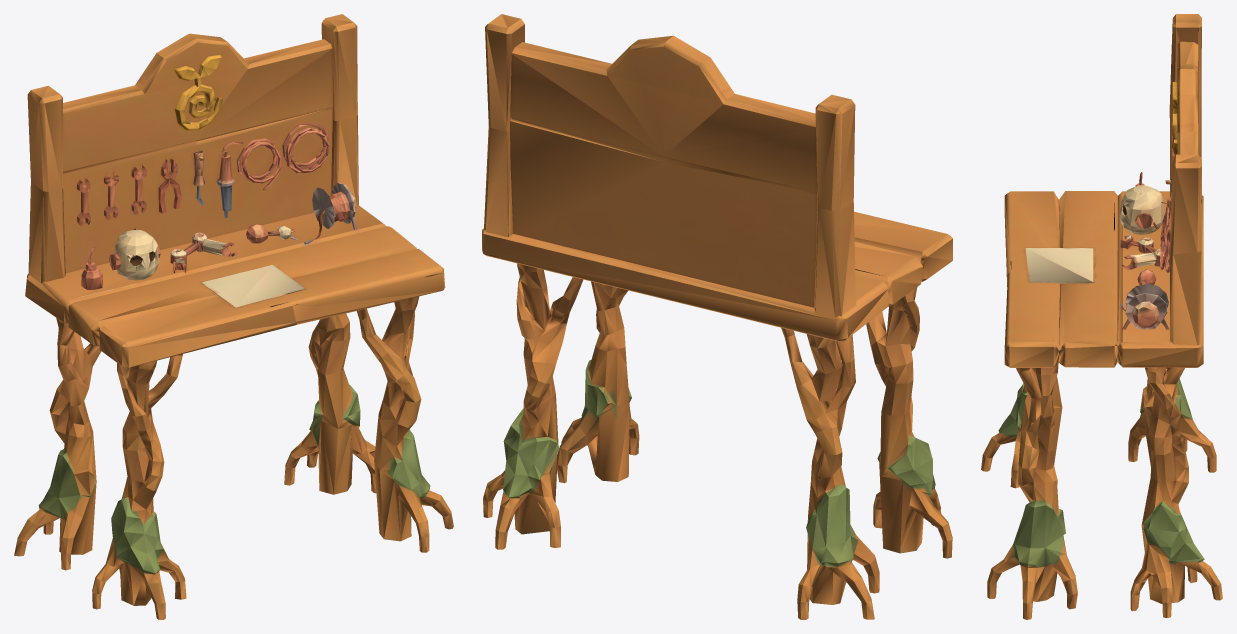
The model's file is etabli.glb.
3 renders of one model, left to right at view 1: azimuth 30°, elevation 25°; view 2: azimuth 150°, elevation 25°; view 3: azimuth 270°, elevation 25°, orthographic. The views are drawn at different scales.
Visible parts, largest first — view 1: Etabli; view 2: Etabli; view 3: Etabli.
Part boxes in pixels (left/top/right/bottom): Etabli: left=14, top=14, right=453, bottom=619; Etabli: left=482, top=14, right=952, bottom=619; Etabli: left=981, top=14, right=1222, bottom=619.
Size of the model in its own units: 1.9 by 2.4 by 1.13.
1 material, 1 textured.
